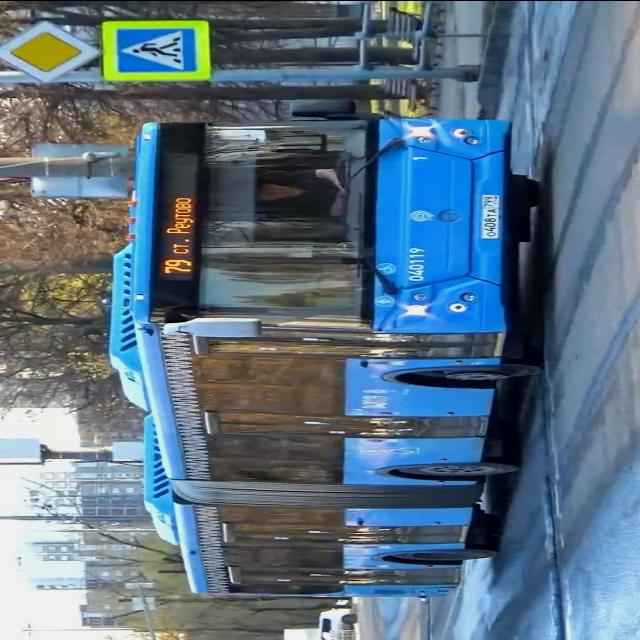bus: (111, 113, 536, 601)
